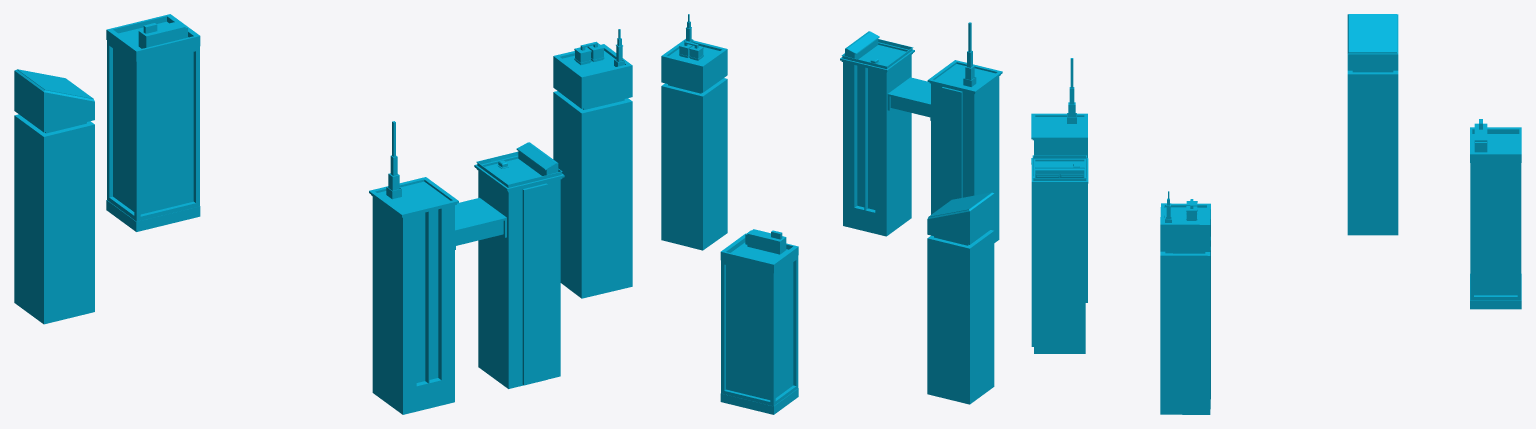
Rendered from building_000000.fbx.
The picture shows the model from 3 angles, left to right: view 1: azimuth 30°, elevation 25°; view 2: azimuth 150°, elevation 25°; view 3: azimuth 270°, elevation 25°; orthographic projection. The views are drawn at different scales.
Parts seen in each view (by area): view 1: polySurface6852, polySurface6853, polySurface6850, polySurface6851; view 2: polySurface6852, polySurface6851, polySurface6853, polySurface6850; view 3: polySurface6852, polySurface6853, polySurface6851, polySurface6850.
Part boxes in pixels (x1=…): polySurface6852: x1=369, y1=121, x2=564, y2=414; polySurface6853: x1=14, y1=69, x2=94, y2=324; polySurface6850: x1=106, y1=14, x2=200, y2=231; polySurface6851: x1=553, y1=29, x2=632, y2=298; polySurface6852: x1=840, y1=22, x2=1002, y2=242; polySurface6851: x1=661, y1=14, x2=727, y2=250; polySurface6853: x1=927, y1=192, x2=994, y2=404; polySurface6850: x1=720, y1=229, x2=798, y2=414; polySurface6852: x1=1031, y1=58, x2=1088, y2=353; polySurface6853: x1=1347, y1=14, x2=1398, y2=235; polySurface6851: x1=1160, y1=191, x2=1210, y2=414; polySurface6850: x1=1470, y1=119, x2=1521, y2=309.
Bounding box in the file's own units: 408 × 222 × 419.
